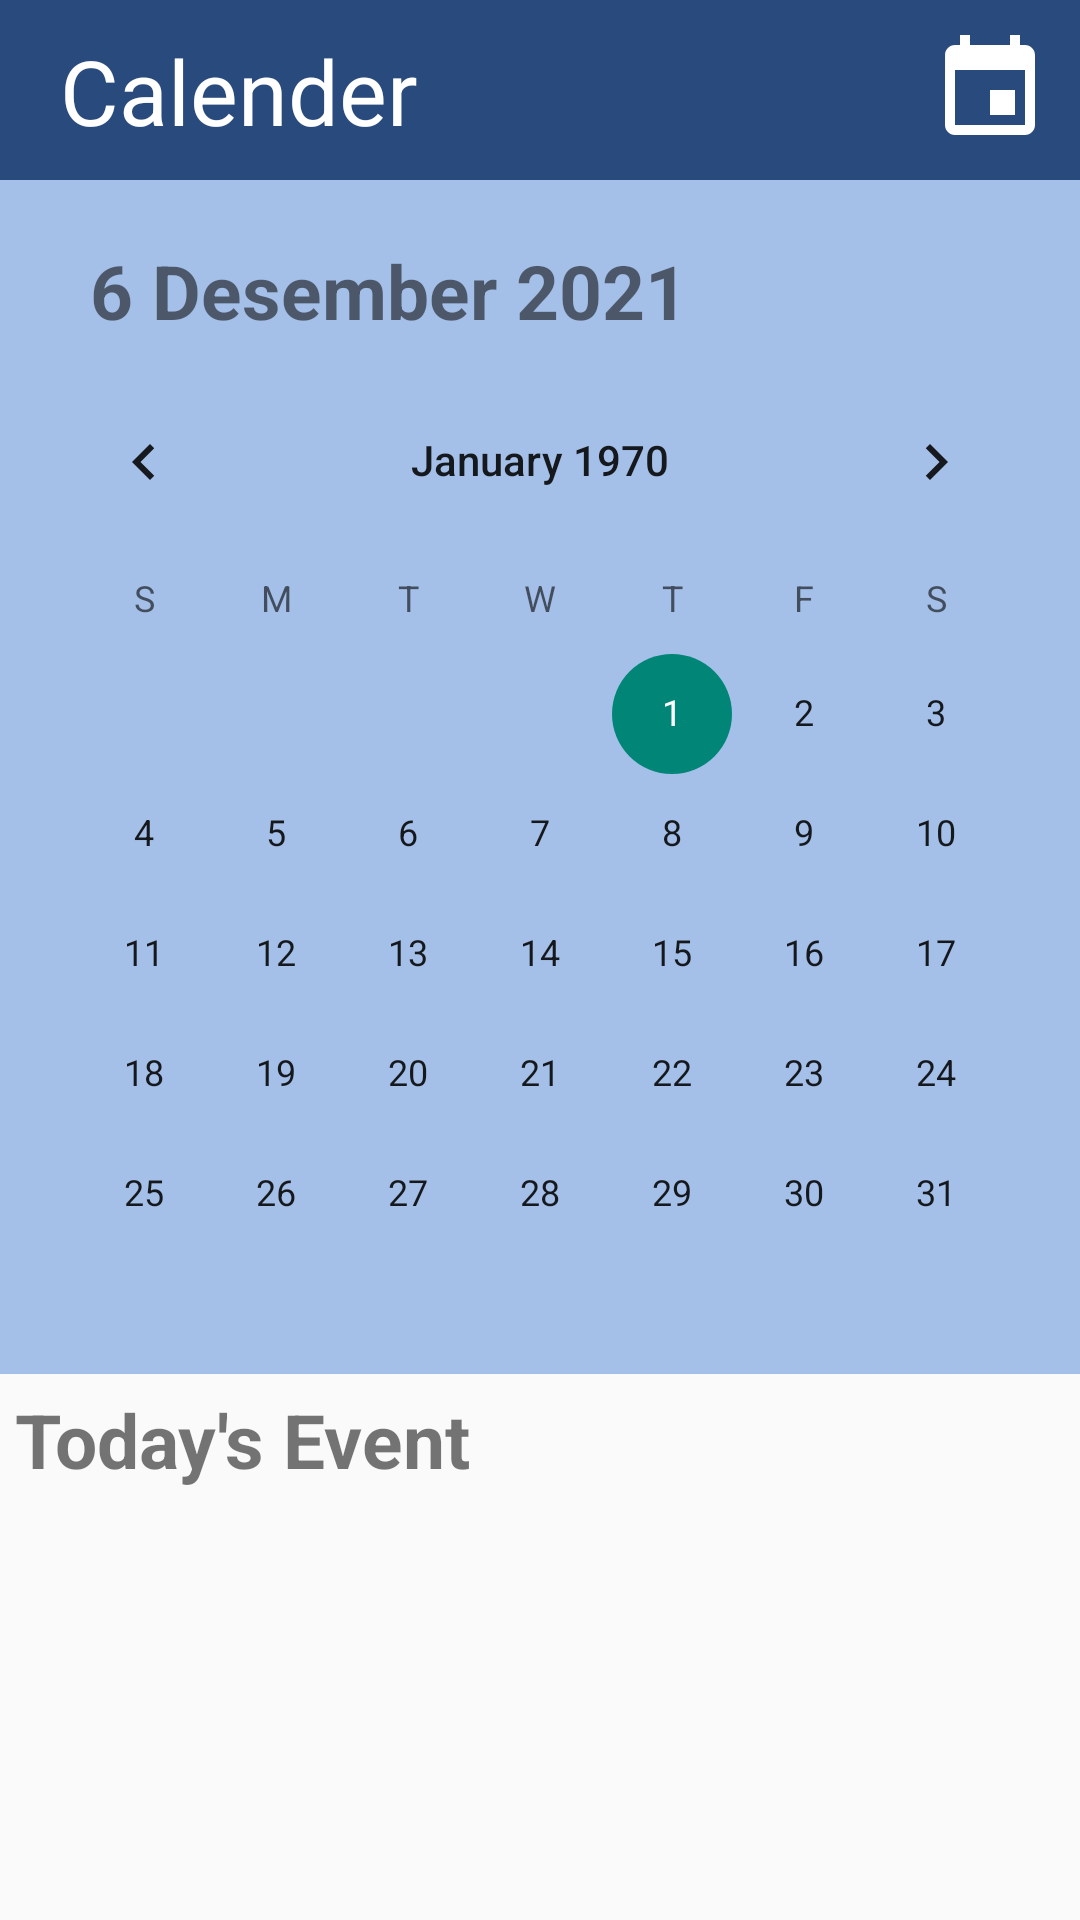

Named icons in this screenshot (1080×1920) and their bounding boxes, rect(x1, y1, x2, y2):
jatuh tempo: rect(945, 35, 1035, 135)
